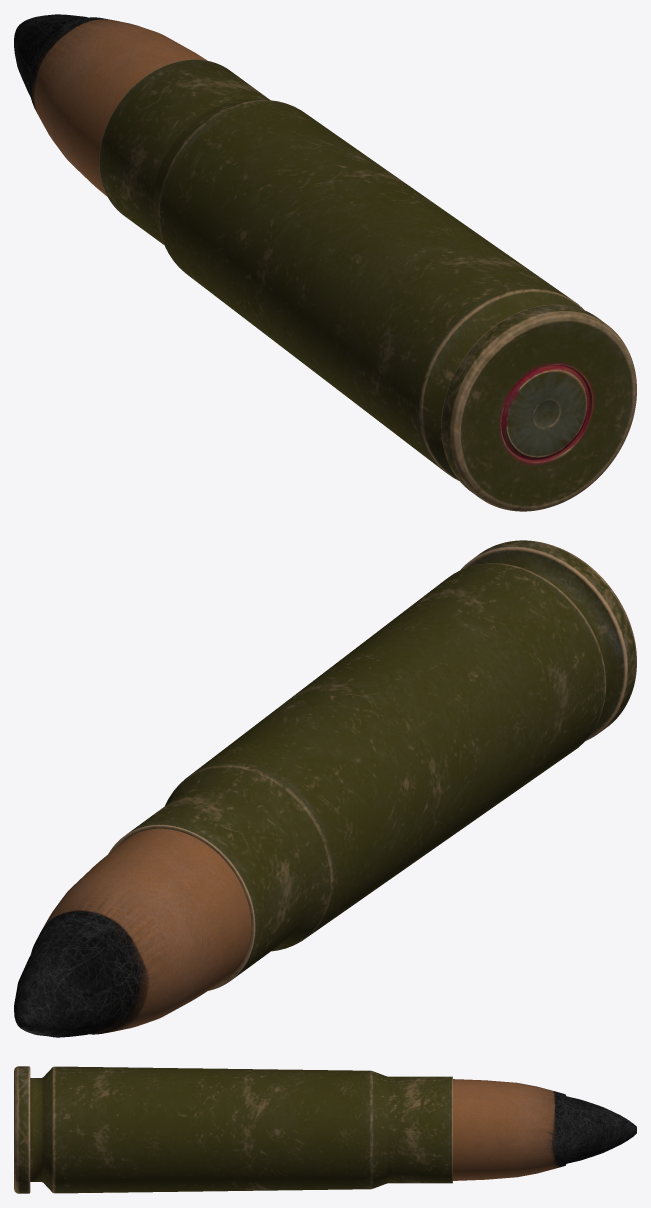
The picture shows the model from 3 angles, top to bottom: view 1: azimuth 30°, elevation 25°; view 2: azimuth 150°, elevation 25°; view 3: azimuth 270°, elevation 25°; orthographic projection. The views are drawn at different scales.
Parts seen in each view (by area): view 1: object 2, Bullet; view 2: object 2, Bullet; view 3: object 2, Bullet.
Part boxes in pixels (left/top/right/bottom): object 2: left=99, top=59, right=636, bottom=511; Bullet: left=14, top=14, right=206, bottom=196; object 2: left=108, top=540, right=636, bottom=990; Bullet: left=14, top=828, right=251, bottom=1037; object 2: left=14, top=1066, right=452, bottom=1193; Bullet: left=453, top=1079, right=636, bottom=1180.
Size of the model in its own units: 96.97 by 96.97 by 473.
Materials: 2 (2 with a texture image).
